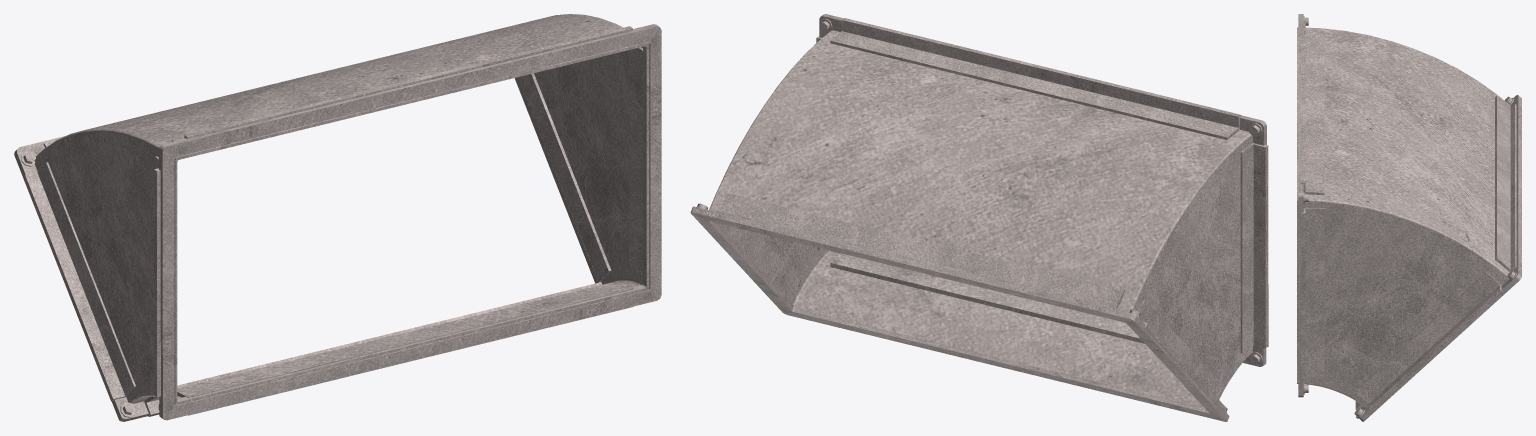
File: SM_Square_Ducting_01f.glb
The picture shows the model from 3 angles, left to right: view 1: azimuth 30°, elevation 25°; view 2: azimuth 150°, elevation 25°; view 3: azimuth 270°, elevation 25°; orthographic projection. The views are drawn at different scales.
Visible parts, largest first — view 1: SM_Square_Ducting_01f; view 2: SM_Square_Ducting_01f; view 3: SM_Square_Ducting_01f.
Part boxes in pixels (left/top/right/bottom): SM_Square_Ducting_01f: left=14, top=14, right=661, bottom=421; SM_Square_Ducting_01f: left=690, top=14, right=1268, bottom=421; SM_Square_Ducting_01f: left=1297, top=14, right=1521, bottom=421.
Size of the model in its own units: 1.06 by 0.6225 by 0.5495.
Materials: 1 (1 with a texture image).
